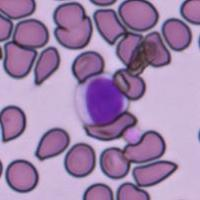L: (72, 72, 128, 125)
